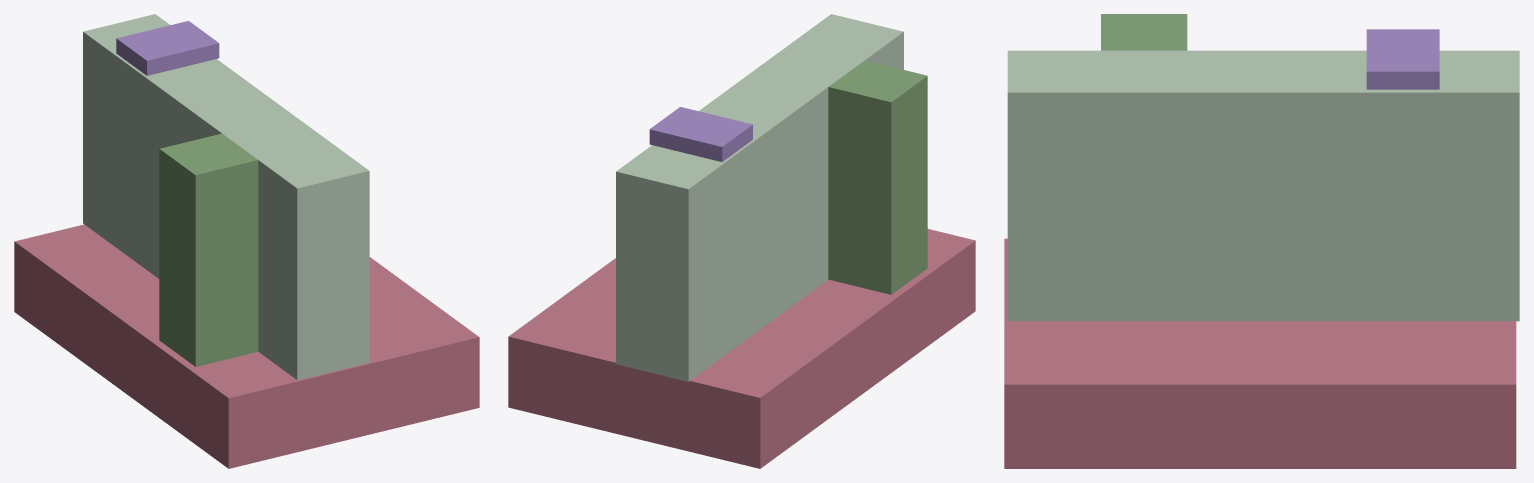
File: 199508_pred.glb
3 renders of one model, left to right at view 1: azimuth 30°, elevation 25°; view 2: azimuth 150°, elevation 25°; view 3: azimuth 270°, elevation 25°, orthographic. The views are drawn at different scales.
Visible parts, largest first — view 1: world; view 2: world; view 3: world.
Part boxes in pixels (x1=…): world: x1=14, y1=14, x2=479, y2=468; world: x1=508, y1=14, x2=975, y2=468; world: x1=1004, y1=14, x2=1519, y2=468.
Size of the model in its own units: 5.2 by 5.55 by 7.75.
